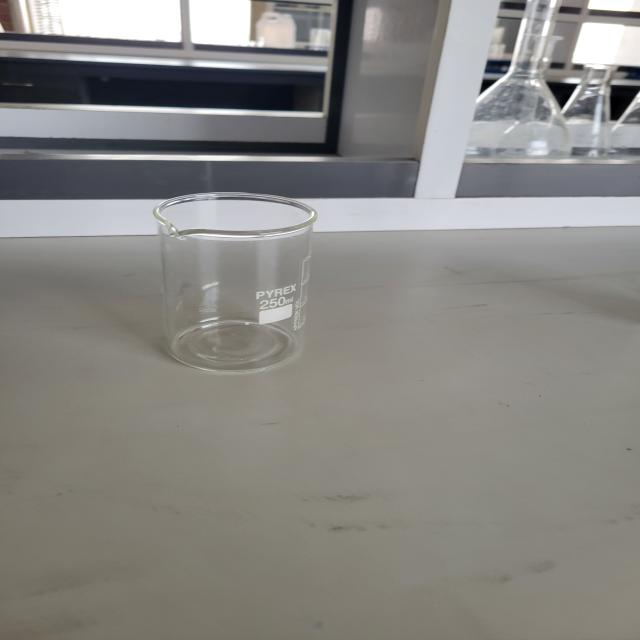Beaker: (128, 176, 346, 392)
